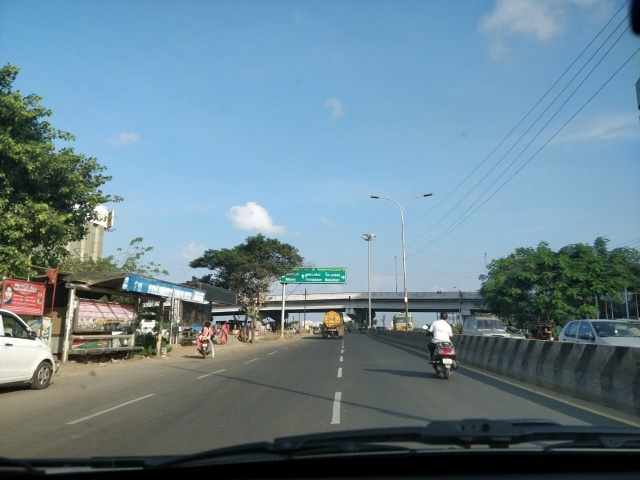car: (557, 316, 637, 380), (3, 305, 59, 389), (557, 320, 640, 347), (461, 309, 509, 353), (463, 314, 512, 338), (507, 326, 523, 338), (285, 327, 296, 333)
motorbike: (428, 316, 461, 377), (434, 343, 459, 378), (198, 320, 215, 358), (200, 338, 210, 360)
person: (430, 311, 453, 341), (202, 320, 214, 338), (221, 322, 229, 344)
truck: (388, 311, 413, 337), (323, 312, 343, 340), (392, 312, 414, 331)
